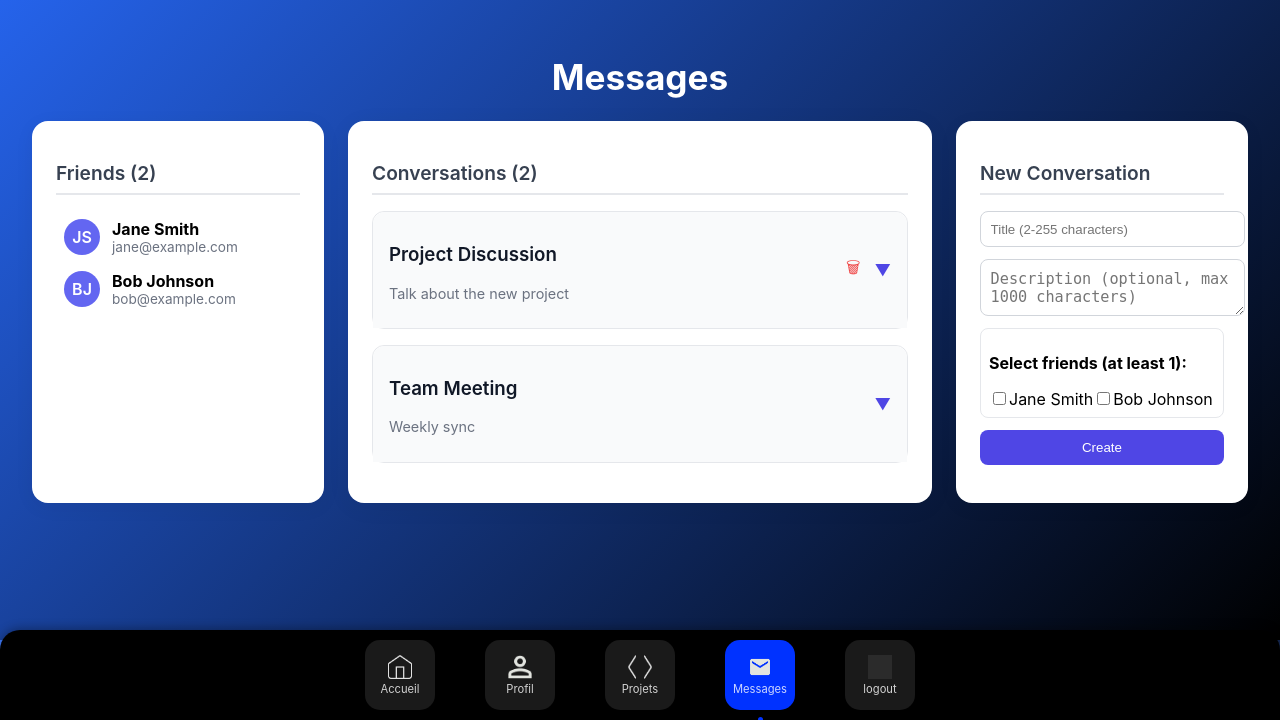
Test case: Messages Component › Gestion des conversations › affiche les dates des messages
Click the heading "Project Discussion": {"x": 479, "y": 255} [389, 243, 569, 266]
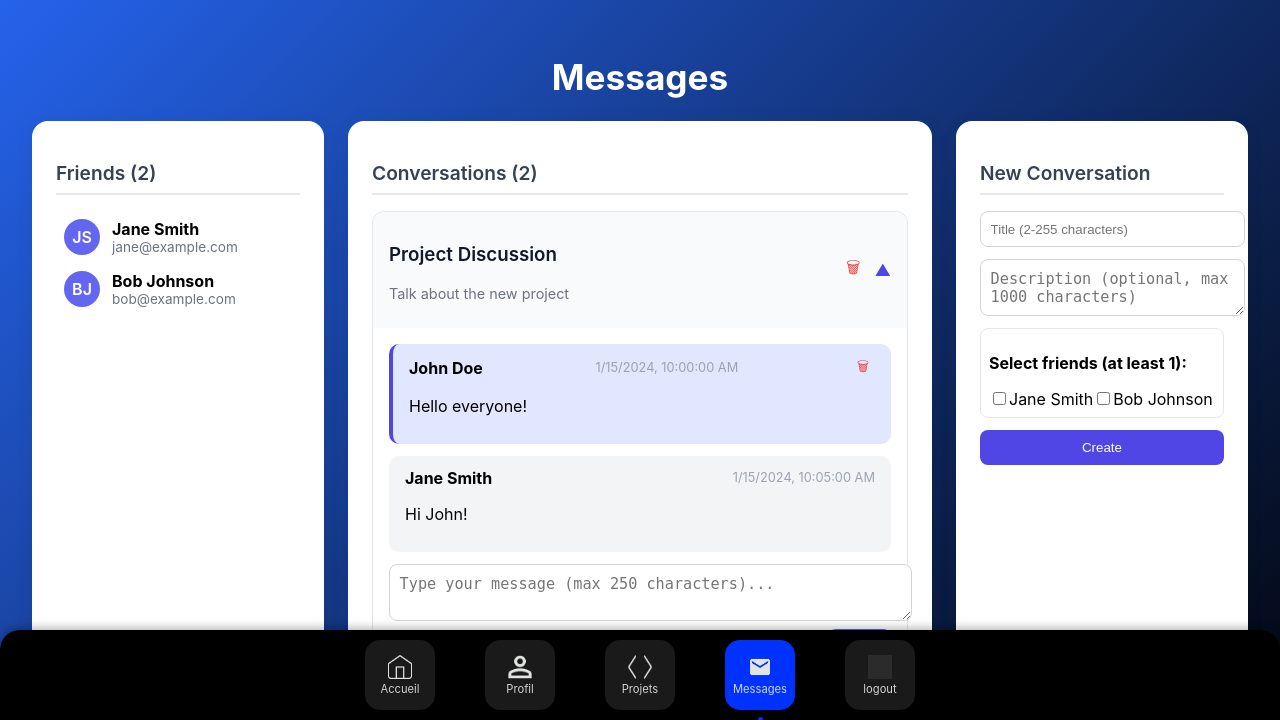
Result: the text "1/15/2024, 10:00:00 AM" is shown at [596, 360, 738, 375]
